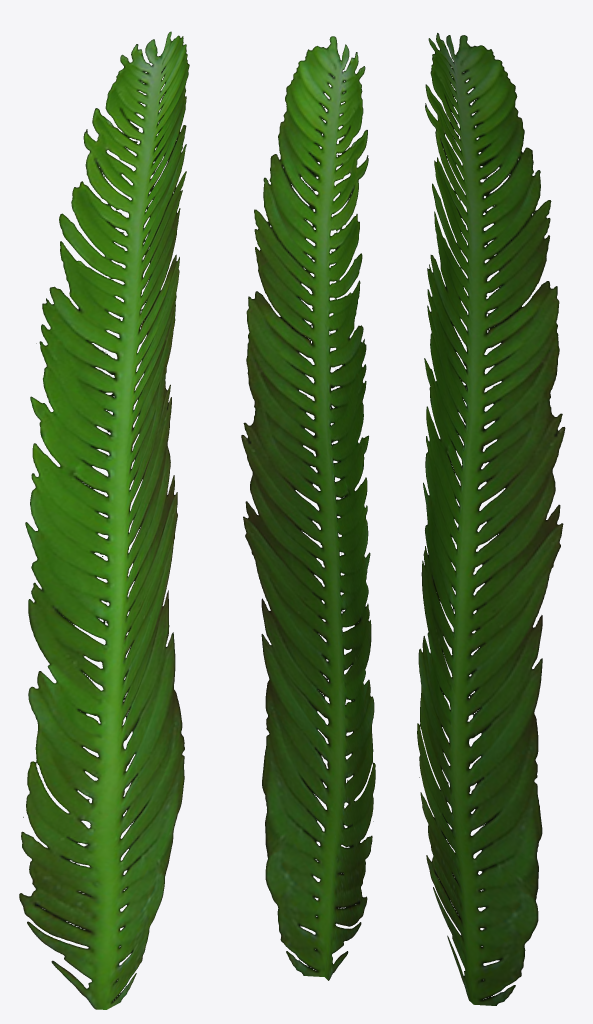
The picture shows the model from 3 angles, left to right: view 1: azimuth 30°, elevation 25°; view 2: azimuth 150°, elevation 25°; view 3: azimuth 330°, elevation 25°; orthographic projection. The views are drawn at different scales.
Visible parts, largest first — view 1: Caulerpa_Taxifolia.006; view 2: Caulerpa_Taxifolia.006; view 3: Caulerpa_Taxifolia.006.
Part boxes in pixels (left/top/right/bottom): Caulerpa_Taxifolia.006: left=19, top=31, right=189, bottom=1009; Caulerpa_Taxifolia.006: left=241, top=36, right=375, bottom=980; Caulerpa_Taxifolia.006: left=417, top=33, right=565, bottom=1005.
Bounding box in the file's own units: 0.0195 × 0.1178 × 0.0143.
1 material, 1 textured.
